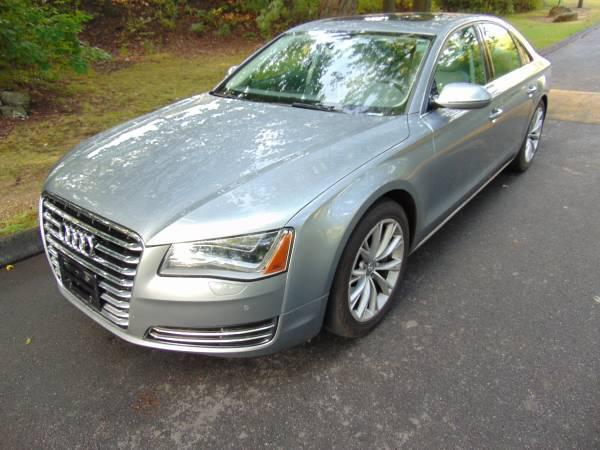Front_Bumper: (127, 247, 327, 358)
Front_Fender: (283, 116, 433, 308)
Front_Left_Door: (420, 84, 499, 233)
Front_Left_Window: (424, 25, 492, 112)
Front_Windshield: (216, 30, 434, 117)
Grille: (40, 191, 145, 336)
Hood: (43, 92, 409, 243)
Left_Headlight: (151, 229, 288, 285)
Rear_Left_Door: (496, 57, 552, 173)
Rear_Left_Window: (479, 25, 537, 86)
Roof: (282, 11, 543, 113)
Wheel: (330, 201, 410, 332), (523, 106, 547, 168)
